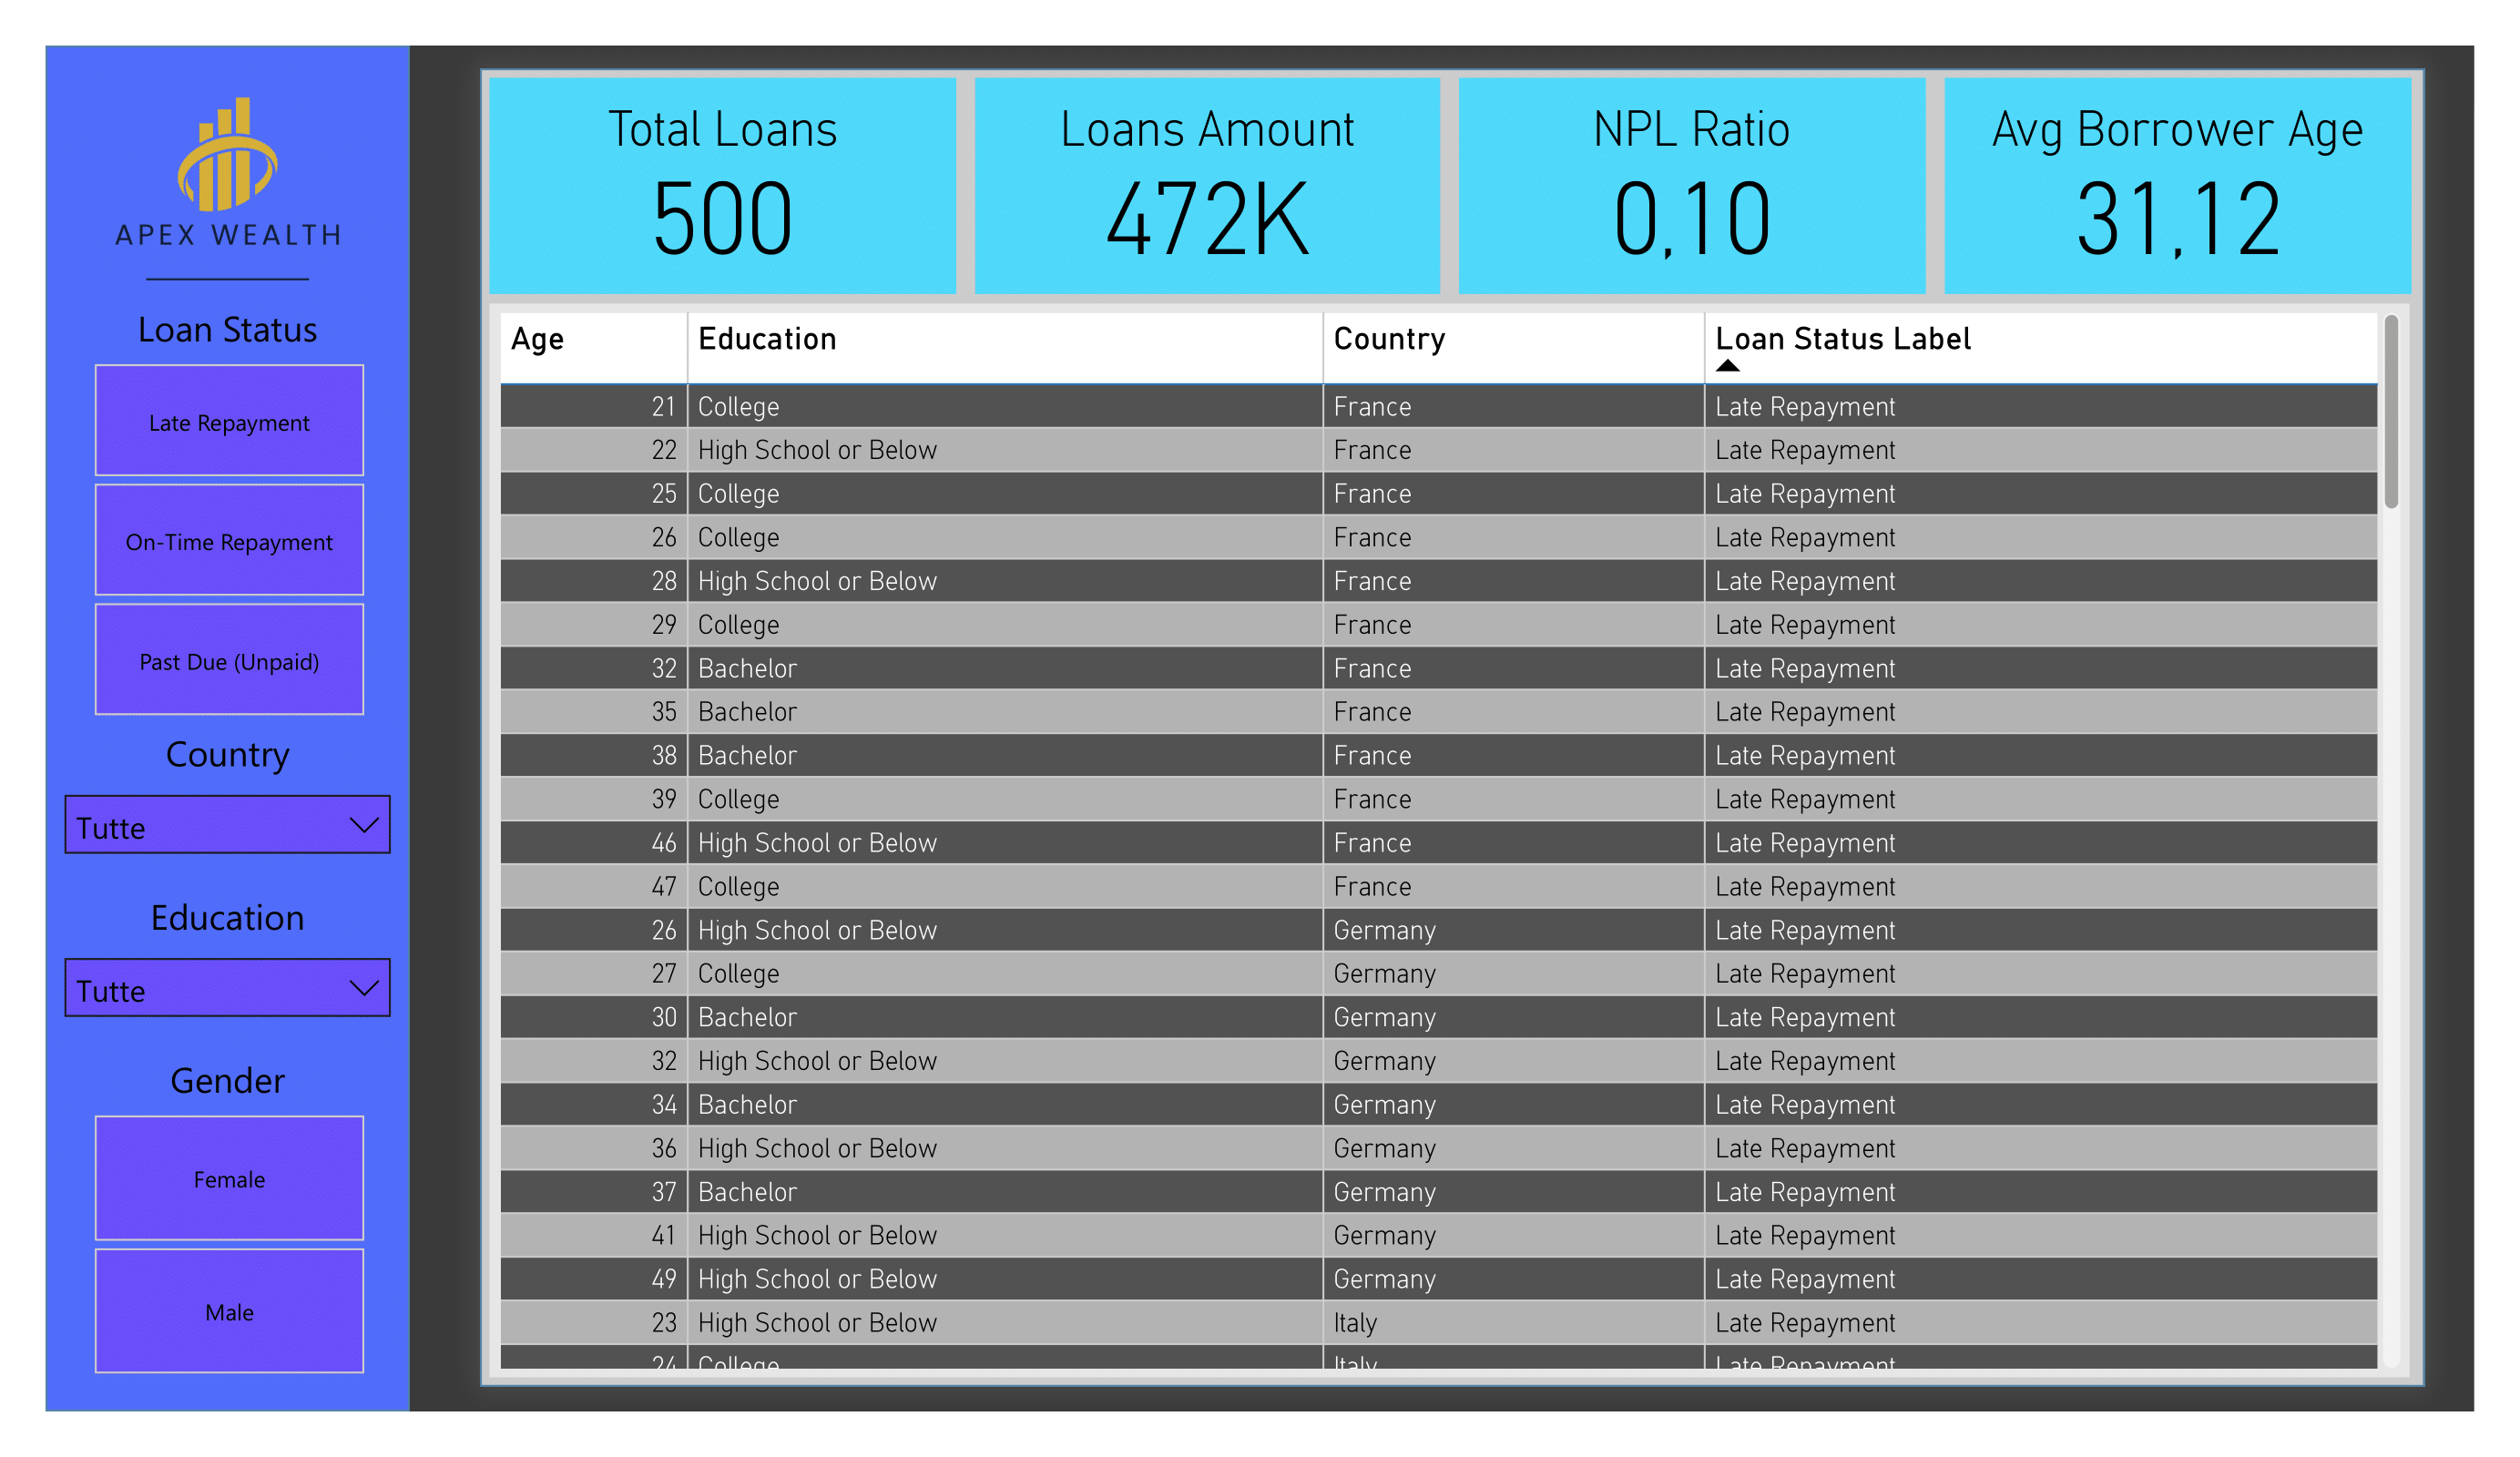

The page's visual inventory and layout, read from the dashboard file:
{"tool":"powerbi","page":{"name":"Pagina 4","canvas":[1280,720],"ordinal":3},"visuals":[{"type":"shape","box":[229.2,12.2,1024.4,694.8],"z":0},{"type":"shape","box":[0,0,192,720.1],"z":1000},{"type":"cardVisual","fields":{"Data":["public loan_analysis_view.Total Loans"]},"box":[229.2,12.2,255.6,123.7],"z":2000},{"type":"cardVisual","fields":{"Data":["public loan_analysis_view.Total Loans Amount"]},"box":[484.8,12.2,255.6,123.7],"z":3000},{"type":"cardVisual","fields":{"Data":["public loan_analysis_view.Average Borrower Age"]},"box":[996,12.2,255.6,123.7],"z":4000},{"type":"cardVisual","fields":{"Data":["public loan_analysis_view.Non Performing Loans Ratio"]},"box":[740.4,12.2,255.6,123.7],"z":5000},{"type":"slicer","title":"Loan Status","fields":{"Values":["public loan_analysis_view.Loan Status Label"]},"box":[0,135.9,191.7,224.2],"z":6000},{"type":"slicer","title":"Country","fields":{"Values":["public loan_analysis_view.country"]},"box":[0,360.1,191.7,86.2],"z":7000},{"type":"slicer","title":"Education","fields":{"Values":["public loan_analysis_view.education"]},"box":[0,446.3,191.7,86.2],"z":8000},{"type":"slicer","title":"Gender","fields":{"Values":["public loan_analysis_view.gender"]},"box":[0,532.5,191.7,174.5],"z":9000},{"type":"tableEx","title":"Credit Risk by Country","fields":{"Values":["public loan_analysis_view.age","public loan_analysis_view.education","public loan_analysis_view.country","public loan_analysis_view.Loan Status Label"]},"box":[234,136.2,1012.2,566],"z":11000},{"type":"image","box":[0,0,192,136],"z":11001}]}

Visuals, with their boxes on the page's 1280x720 design canvas (x1, y1, x2, y2). These are canvas units, not pixel positions in the 2520x1457 screenshot, which may show the page scaled, cropped or inside an application window:
shape: {"left": 229, "top": 12, "right": 1254, "bottom": 707}
shape: {"left": 0, "top": 0, "right": 192, "bottom": 720}
cardVisual - public loan_analysis_view.Total Loans: {"left": 229, "top": 12, "right": 485, "bottom": 136}
cardVisual - public loan_analysis_view.Total Loans Amount: {"left": 485, "top": 12, "right": 740, "bottom": 136}
cardVisual - public loan_analysis_view.Average Borrower Age: {"left": 996, "top": 12, "right": 1252, "bottom": 136}
cardVisual - public loan_analysis_view.Non Performing Loans Ratio: {"left": 740, "top": 12, "right": 996, "bottom": 136}
"Loan Status" slicer: {"left": 0, "top": 136, "right": 192, "bottom": 360}
"Country" slicer: {"left": 0, "top": 360, "right": 192, "bottom": 446}
"Education" slicer: {"left": 0, "top": 446, "right": 192, "bottom": 532}
"Gender" slicer: {"left": 0, "top": 532, "right": 192, "bottom": 707}
"Credit Risk by Country" tableEx: {"left": 234, "top": 136, "right": 1246, "bottom": 702}
image: {"left": 0, "top": 0, "right": 192, "bottom": 136}
